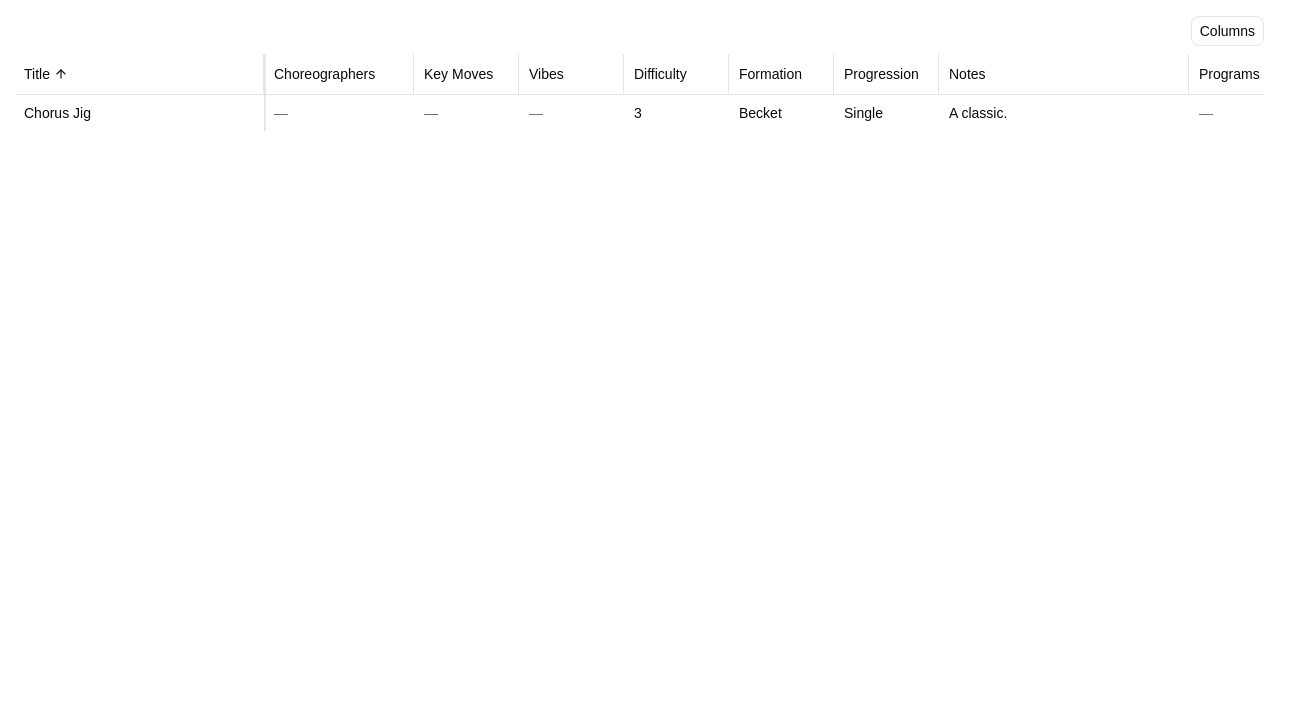
Test: DancesPage › column visibility › hides a column from the table when its toggle is switched off, and restores it when switched back on
This screenshot has width=1292, height=720.
Expected: the 8th column heading named "Notes" is shown, [941, 54, 1191, 94]
Expected: the text "A classic." is shown, [949, 104, 1007, 120]
Click the button "Columns": click(1227, 31) [1191, 16, 1264, 46]
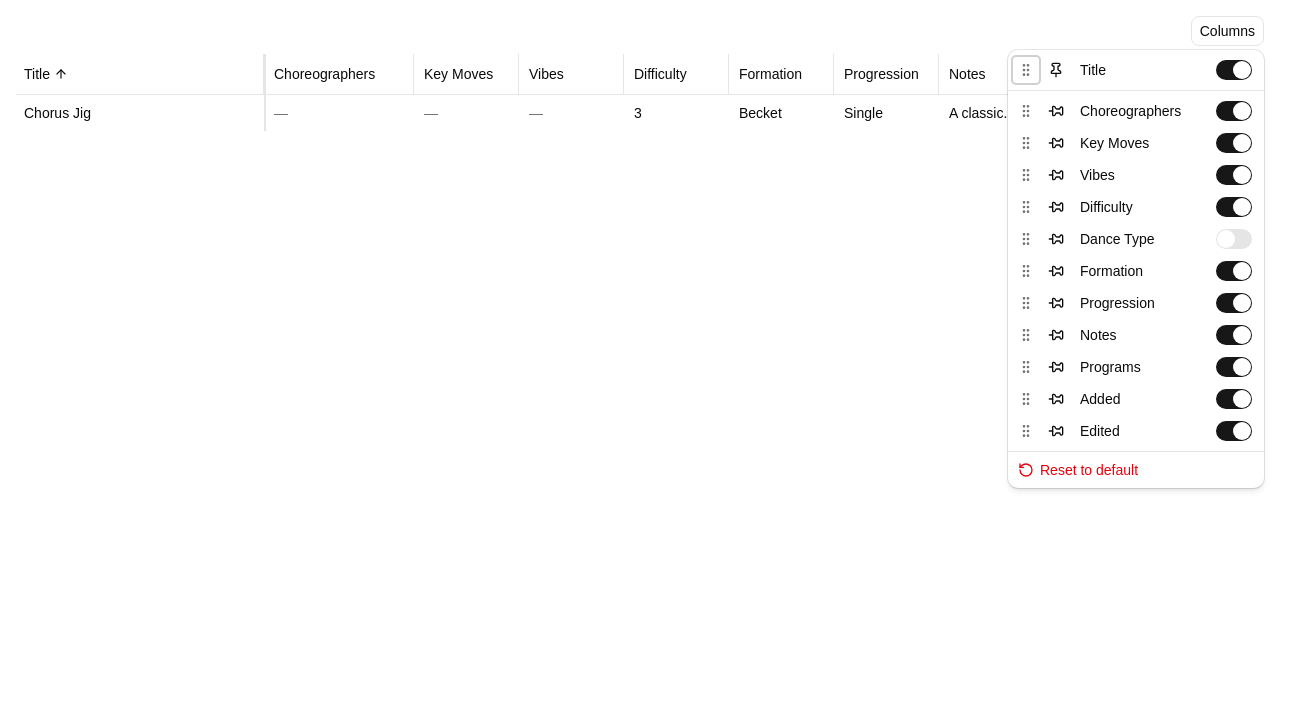
Click the 9th switch named "Notes": click(1234, 335) [1216, 325, 1252, 345]
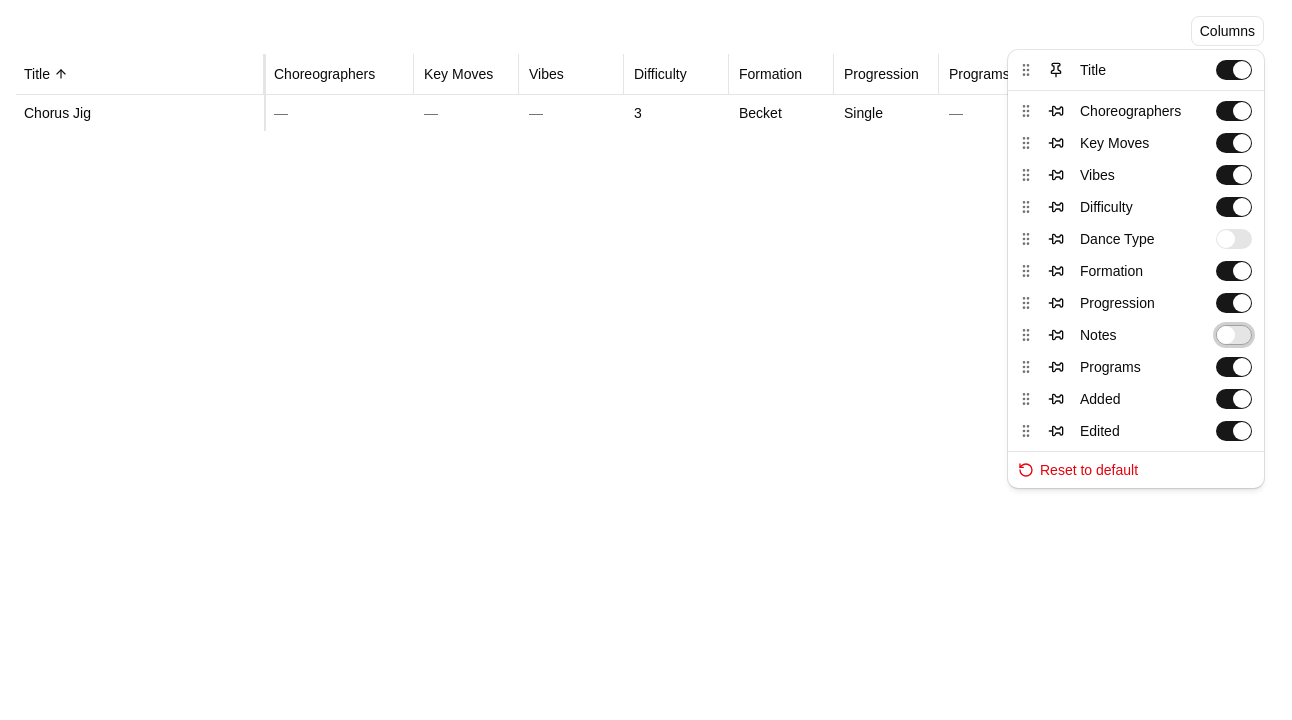
Now the button "A classic." is gone
Click the switch named "Notes" next to "Notes": click(1234, 335) [1216, 325, 1252, 345]
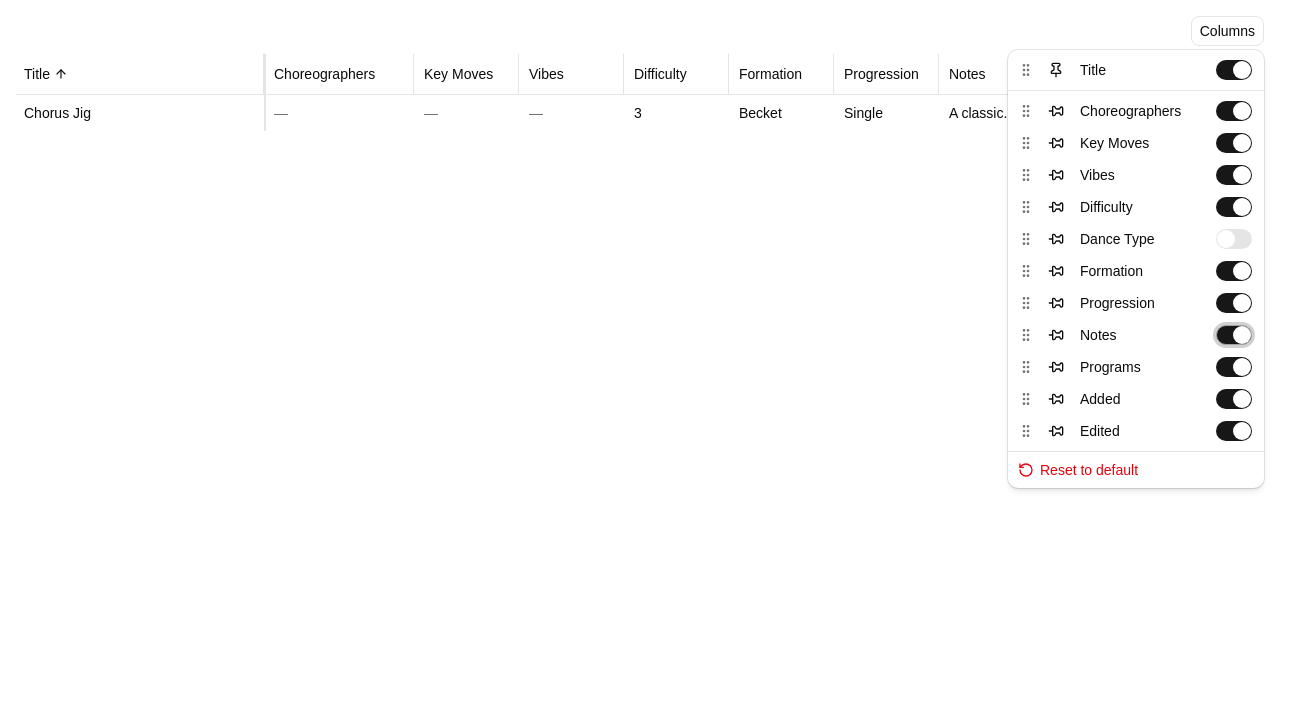
Now the 8th column heading named "Notes" is shown, box [941, 54, 1191, 94]
Now the text "A classic." is shown, box [949, 104, 1007, 120]
